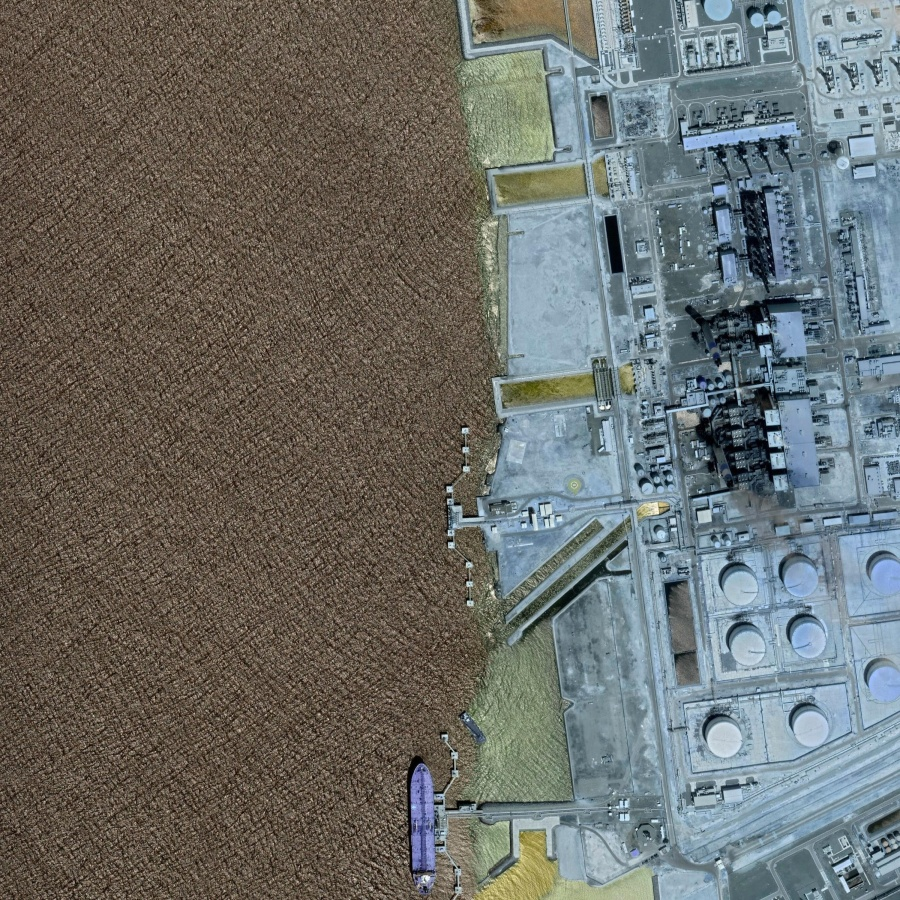PowerPlant: (632, 177, 854, 493)
